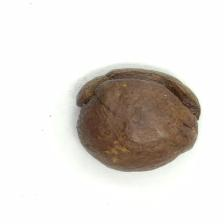NG: (75, 68, 201, 125)
